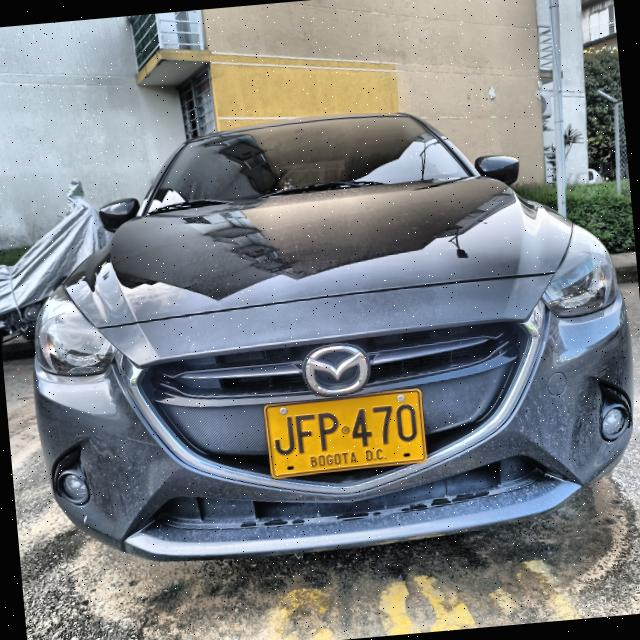plate: (266, 391, 428, 476)
